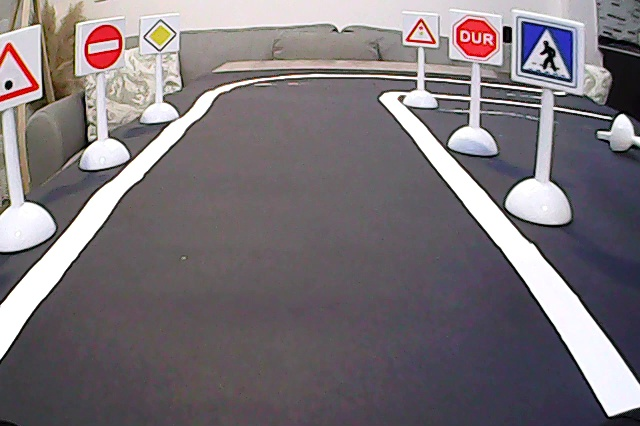do not enter: (76, 24, 132, 74)
green light: (1, 29, 42, 108)
pedestrian crossing: (514, 14, 583, 92)
red light: (405, 12, 440, 46)
stop sign: (450, 10, 503, 65)
